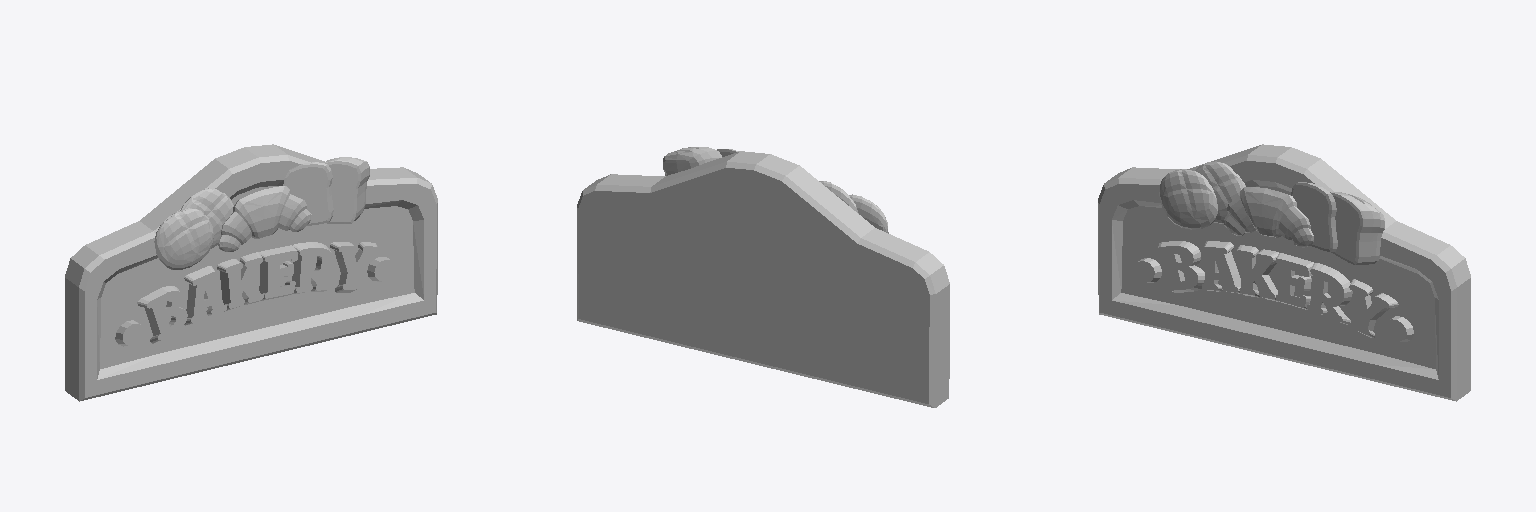
Rendered from bakery_sign_A.obj.
3 renders of one model, left to right at view 1: azimuth 30°, elevation 25°; view 2: azimuth 150°, elevation 25°; view 3: azimuth 330°, elevation 25°, orthographic.
Visible parts, largest first — view 1: bakery_sign_A; view 2: bakery_sign_A; view 3: bakery_sign_A.
Boxes of the visible parts, <box> form: bakery_sign_A: <box>65,144,437,401</box>; bakery_sign_A: <box>577,147,949,407</box>; bakery_sign_A: <box>1098,144,1470,401</box>.
Bounding box in the file's own units: 4.4 × 2.34 × 0.5973.